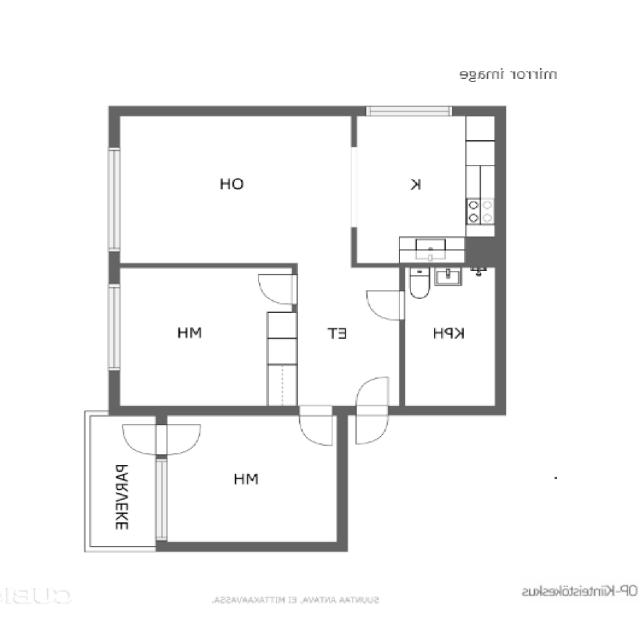door: (348, 372, 394, 448), (293, 404, 338, 450), (252, 267, 302, 308), (359, 284, 408, 324), (156, 417, 206, 456), (116, 420, 164, 458)
window: (97, 142, 128, 258), (98, 278, 126, 378), (359, 100, 458, 120), (153, 460, 171, 542), (344, 140, 359, 238)
zone: (112, 111, 356, 263), (110, 263, 298, 410), (163, 412, 341, 544), (351, 113, 495, 265), (298, 263, 406, 411), (400, 264, 500, 409)
